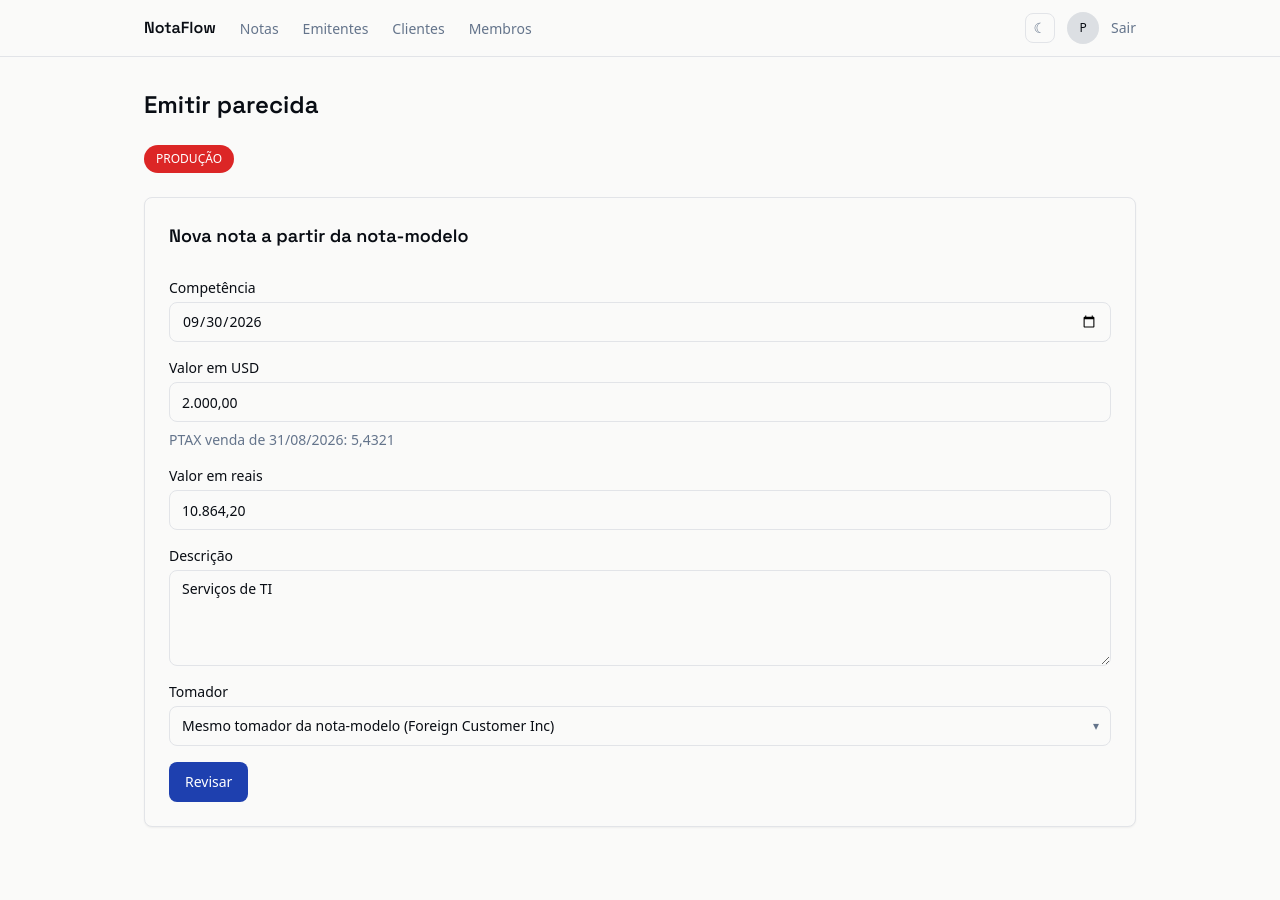
Test: a new competence date fetches the rate of that date
The width and height of the screenshot is (1280, 900).
Expected: the field showing "10.864,20" is shown, [169, 490, 1111, 530]
Type "2026-07-31" into the date field labelled "Competência" at [640, 322], box [169, 302, 1111, 342]
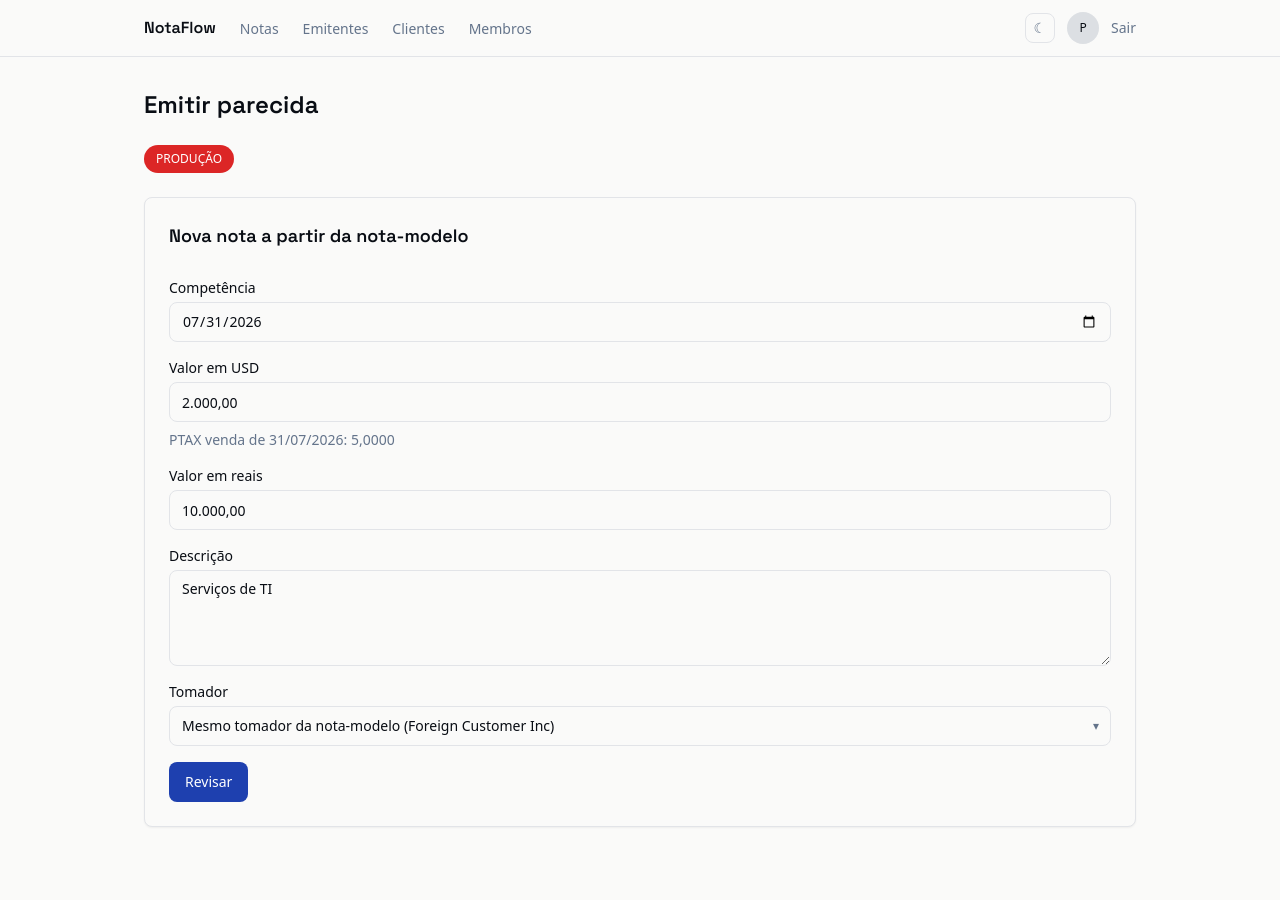
Result: the field showing "10.000,00" is shown at [169, 490, 1111, 530]
Result: the text "PTAX venda de 31/07/2026: 5,0000" is shown at [169, 430, 395, 449]
